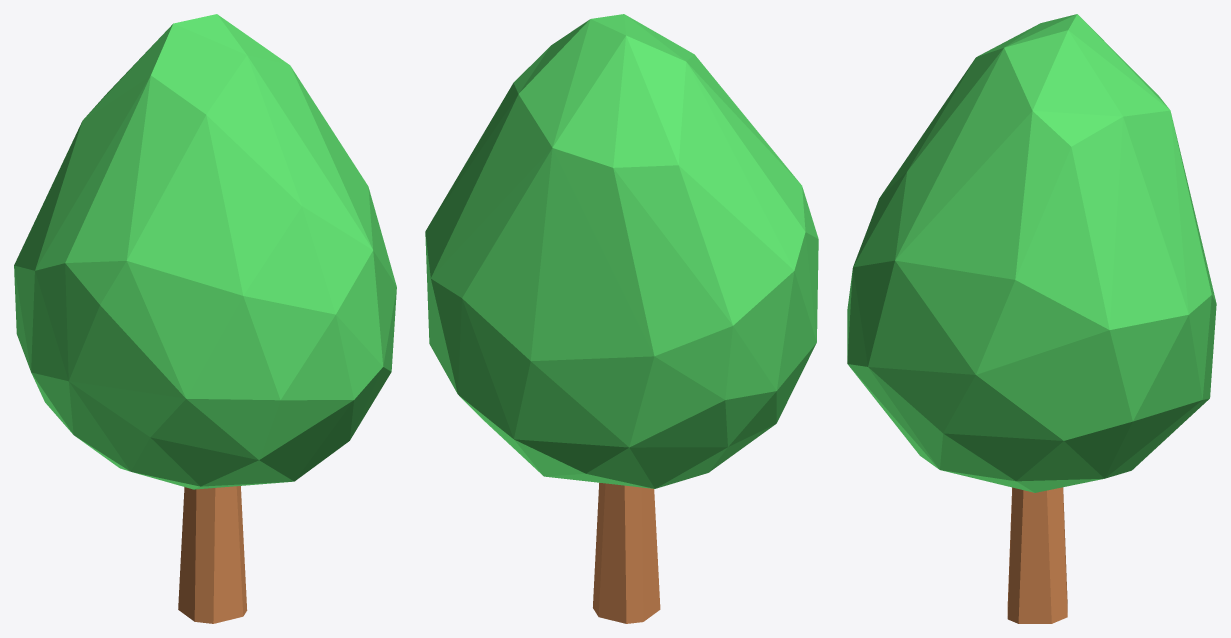
Rendered from tree.fbx.
3 views of the same model, side by side, from view 1: azimuth 30°, elevation 25°; view 2: azimuth 150°, elevation 25°; view 3: azimuth 270°, elevation 25° (orthographic). The views are drawn at different scales.
Visible parts, largest first — view 1: Icosphere, Cube; view 2: Icosphere, Cube; view 3: Icosphere, Cube.
Boxes of the visible parts, left/top/right/bottom form: Icosphere: left=14, top=14, right=396, bottom=489; Cube: left=178, top=486, right=247, bottom=623; Icosphere: left=425, top=14, right=818, bottom=488; Cube: left=593, top=482, right=660, bottom=623; Icosphere: left=847, top=14, right=1216, bottom=492; Cube: left=1007, top=487, right=1067, bottom=623.
Size of the model in its own units: 1296 by 2175 by 1232.
